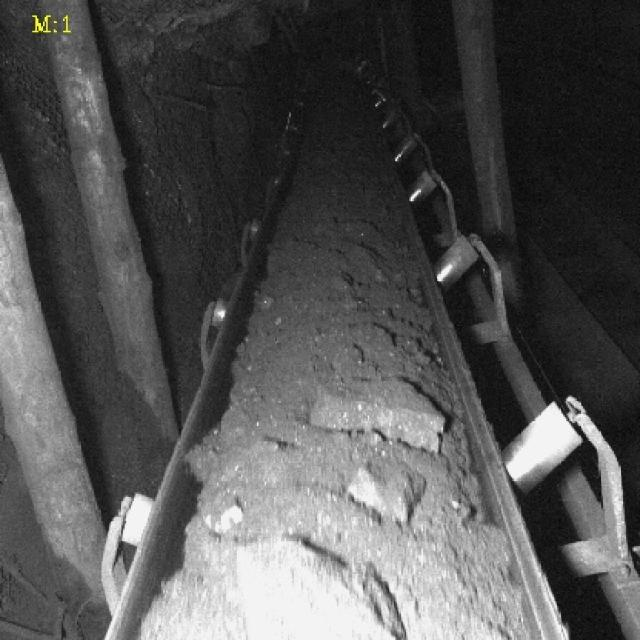large_sized_coal: (232, 544, 401, 640), (306, 369, 448, 449), (352, 460, 422, 523)
